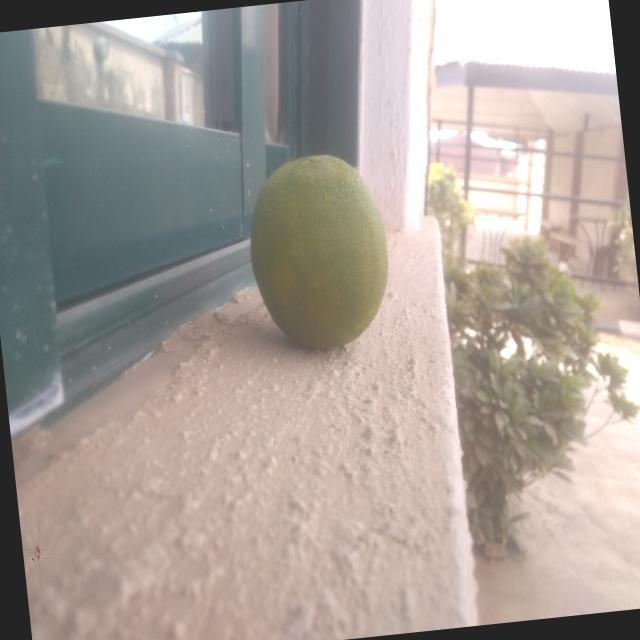agrume: (214, 125, 410, 388)
